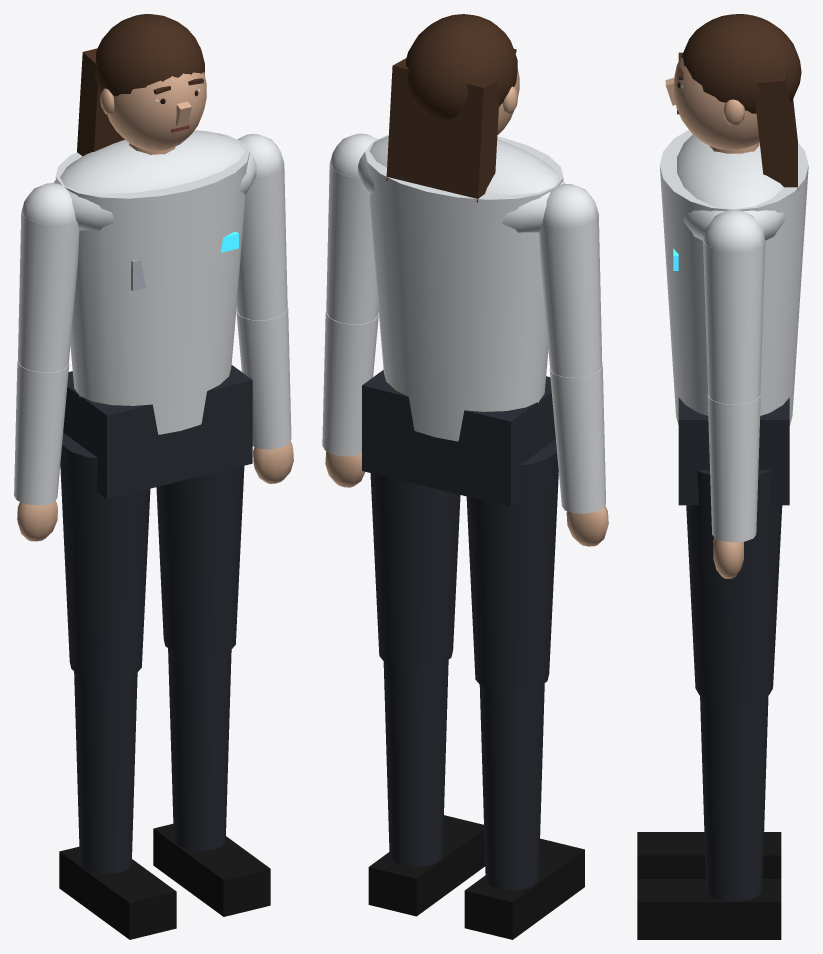
Rendered from char_extra1.glb.
The picture shows the model from 3 angles, left to right: view 1: azimuth 30°, elevation 25°; view 2: azimuth 150°, elevation 25°; view 3: azimuth 270°, elevation 25°; orthographic projection. The views are drawn at different scales.
Parts seen in each view (by area): view 1: Torso__Char_Lab, Thigh__Char_Pants (×2), Shin__Char_Pants (×2), UpperArm__Char_Lab (×2), Pelvis__Char_Pants, Shin__Char_Shoes (×2), Forearm__Char_Lab (×2), Head_Mesh__Char_Hair_Brown, Head_Mesh__Char_Skin_C, Forearm__Char_Skin_C (×2); view 2: Torso__Char_Lab, Thigh__Char_Pants (×2), Shin__Char_Pants (×2), UpperArm__Char_Lab (×2), Head_Mesh__Char_Hair_Brown, Pelvis__Char_Pants, Forearm__Char_Lab (×2), Shin__Char_Shoes (×2), Forearm__Char_Skin_C (×2), Head_Mesh__Char_Skin_C; view 3: Torso__Char_Lab, Thigh__Char_Pants, Shin__Char_Pants, Shin__Char_Shoes (×2), Head_Mesh__Char_Hair_Brown, UpperArm__Char_Lab, Forearm__Char_Lab, Pelvis__Char_Pants, Head_Mesh__Char_Skin_C, Forearm__Char_Skin_C.
Boxes of the visible parts, x1=… form: Torso__Char_Lab: x1=54, y1=130, x2=256, y2=434; Thigh__Char_Pants (×2): x1=60, y1=433, x2=244, y2=680; Shin__Char_Pants (×2): x1=74, y1=648, x2=231, y2=873; UpperArm__Char_Lab (×2): x1=18, y1=133, x2=287, y2=372; Pelvis__Char_Pants: x1=63, y1=365, x2=252, y2=498; Shin__Char_Shoes (×2): x1=59, y1=824, x2=270, y2=939; Forearm__Char_Lab (×2): x1=14, y1=307, x2=291, y2=505; Head_Mesh__Char_Hair_Brown: x1=77, y1=14, x2=204, y2=156; Head_Mesh__Char_Skin_C: x1=100, y1=72, x2=206, y2=154; Forearm__Char_Skin_C (×2): x1=17, y1=441, x2=293, y2=541; Torso__Char_Lab: x1=358, y1=134, x2=565, y2=441; Thigh__Char_Pants (×2): x1=370, y1=439, x2=558, y2=692; Shin__Char_Pants (×2): x1=383, y1=660, x2=544, y2=890; UpperArm__Char_Lab (×2): x1=326, y1=133, x2=602, y2=377; Head_Mesh__Char_Hair_Brown: x1=386, y1=14, x2=517, y2=202; Pelvis__Char_Pants: x1=362, y1=370, x2=555, y2=507; Forearm__Char_Lab (×2): x1=322, y1=311, x2=606, y2=513; Shin__Char_Shoes (×2): x1=368, y1=815, x2=584, y2=939; Forearm__Char_Skin_C (×2): x1=325, y1=451, x2=608, y2=546; Head_Mesh__Char_Skin_C: x1=497, y1=69, x2=519, y2=134; Torso__Char_Lab: x1=659, y1=130, x2=808, y2=425; Thigh__Char_Pants: x1=686, y1=470, x2=782, y2=703; Shin__Char_Pants: x1=700, y1=695, x2=768, y2=901; Shin__Char_Shoes (×2): x1=637, y1=832, x2=781, y2=939; Head_Mesh__Char_Hair_Brown: x1=681, y1=14, x2=801, y2=190; UpperArm__Char_Lab: x1=703, y1=209, x2=765, y2=404; Forearm__Char_Lab: x1=707, y1=395, x2=760, y2=542; Pelvis__Char_Pants: x1=678, y1=397, x2=789, y2=505; Head_Mesh__Char_Skin_C: x1=665, y1=53, x2=759, y2=153; Forearm__Char_Skin_C: x1=713, y1=538, x2=743, y2=578.
Bounding box in the file's own units: 0.5852 × 1.76 × 0.3094.
